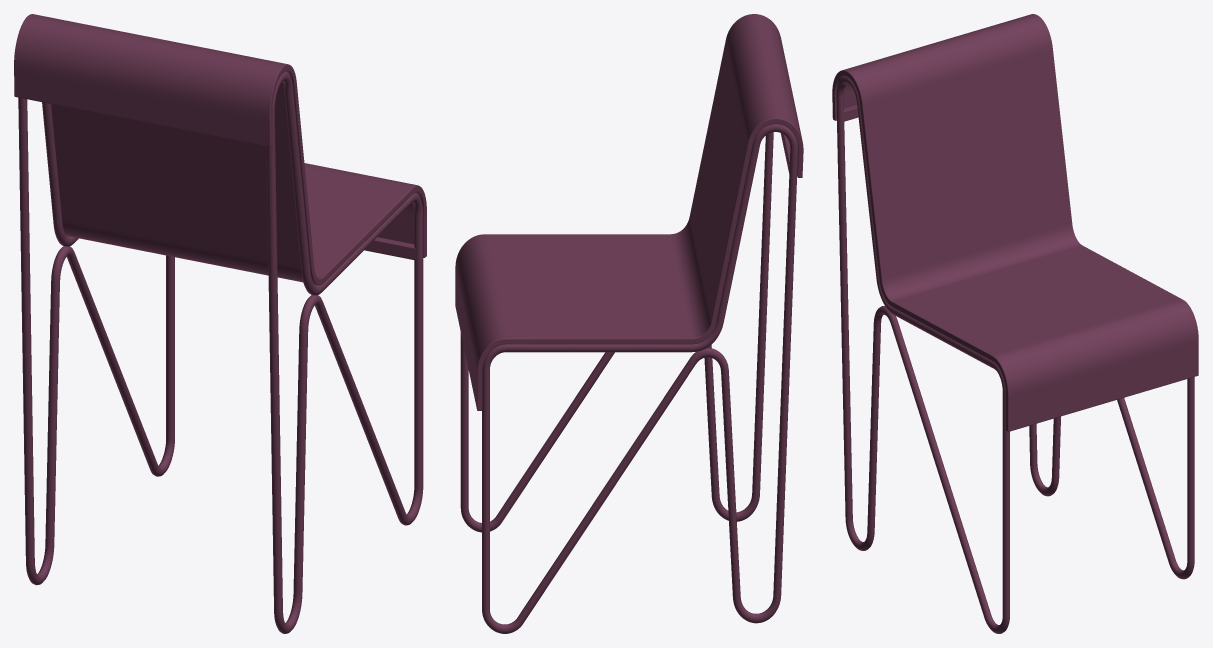
Rendered from Chair.fbx.
3 renders of one model, left to right at view 1: azimuth 30°, elevation 25°; view 2: azimuth 150°, elevation 25°; view 3: azimuth 270°, elevation 25°, orthographic. The views are drawn at different scales.
Visible parts, largest first — view 1: OBJ_MTL1:elledecor_beinspiration_06; view 2: OBJ_MTL1:elledecor_beinspiration_06; view 3: OBJ_MTL1:elledecor_beinspiration_06.
Part boxes in pixels (x1,y1,x2,y2): OBJ_MTL1:elledecor_beinspiration_06: (14,14,426,633); OBJ_MTL1:elledecor_beinspiration_06: (455,14,803,633); OBJ_MTL1:elledecor_beinspiration_06: (832,14,1198,633).
Bounding box in the file's own units: 33.48 × 45.59 × 31.91.
